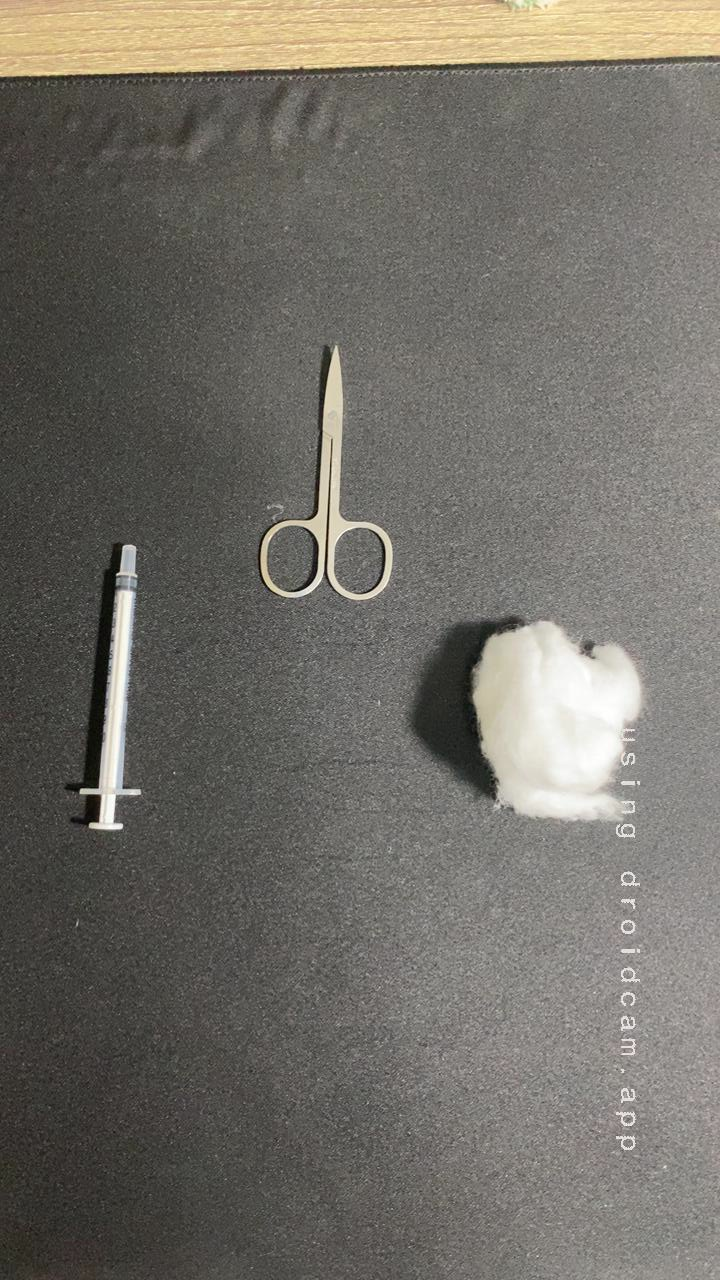cotton: (442, 599, 675, 854)
scissor: (232, 331, 414, 615)
syringe: (46, 527, 188, 848)
